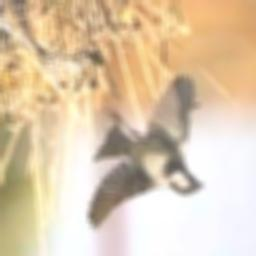Sparrow: (87, 75, 204, 231)
